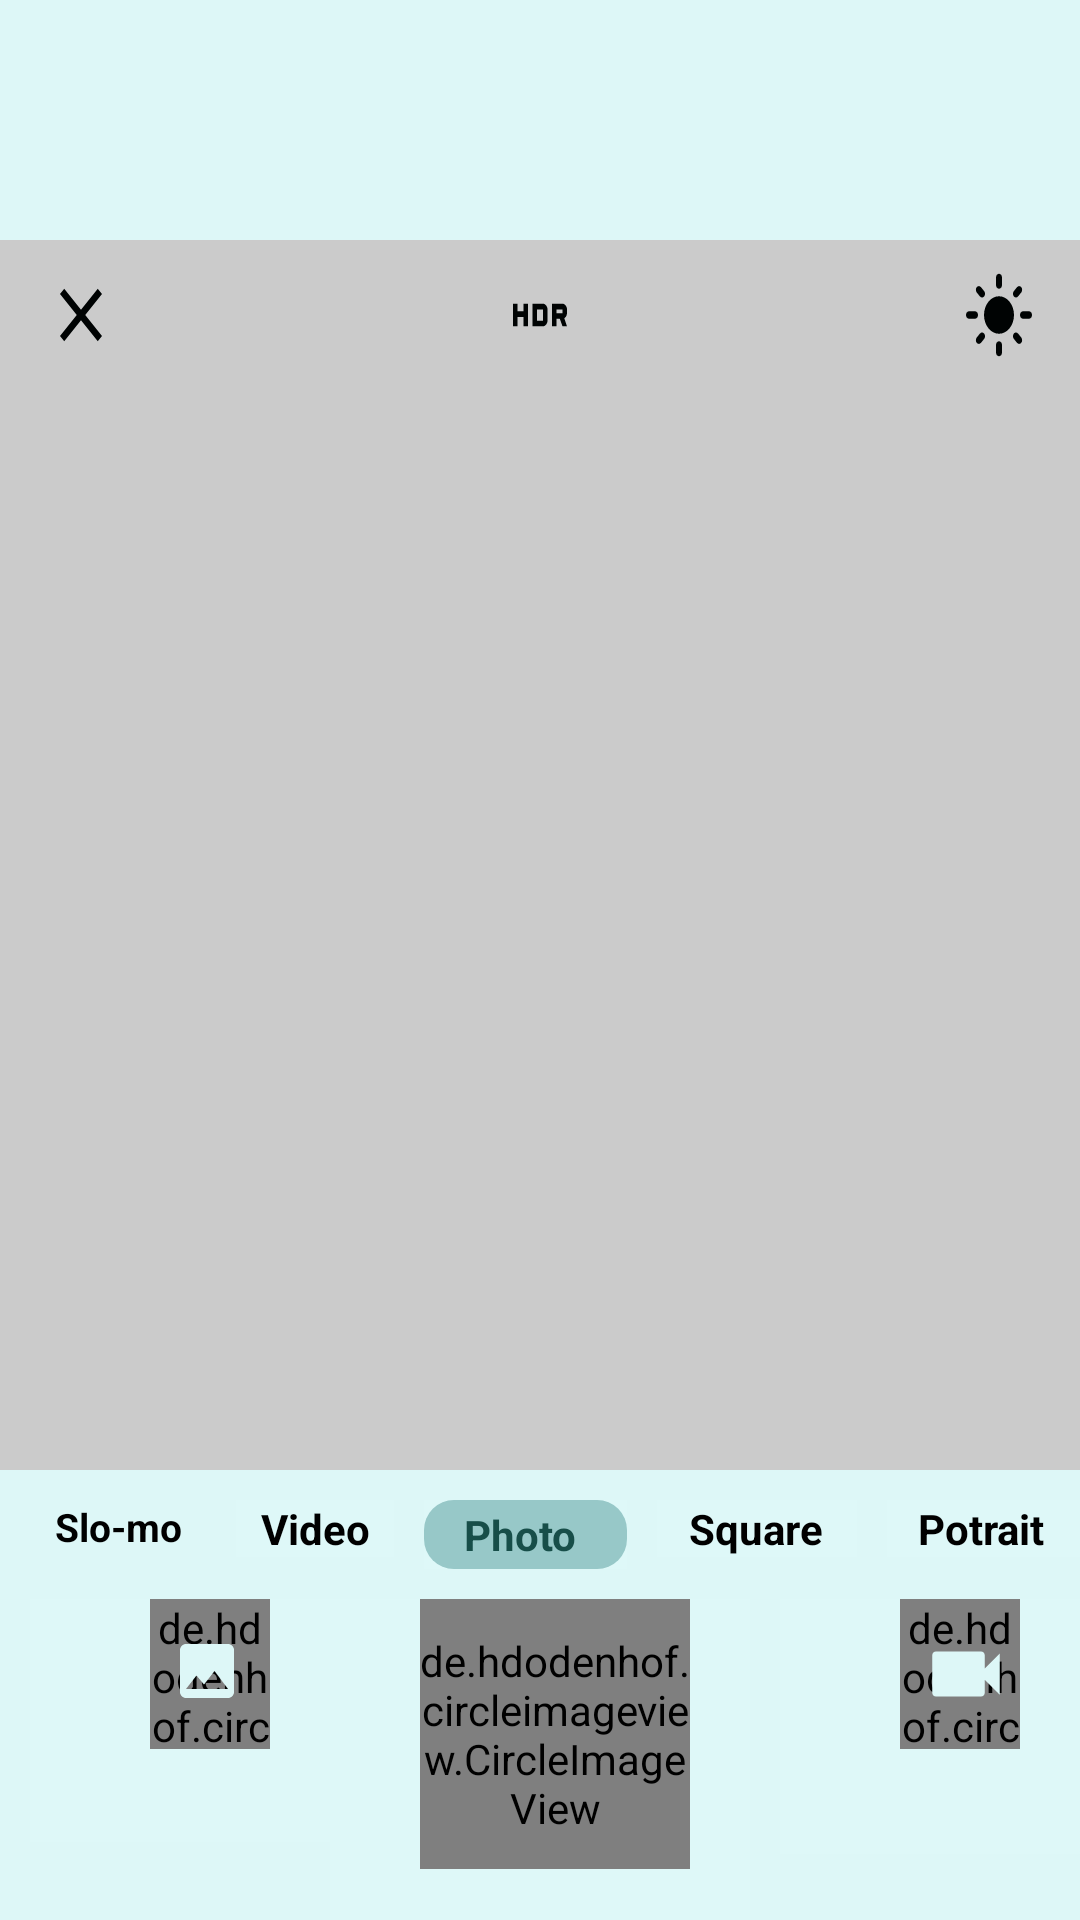

Screen size 1080 x 1920. Icon name, then its box in pixels as box=[x1, y1, x2, y2]:
brightness: box=[966, 273, 1032, 357]
close: box=[60, 289, 102, 341]
gallery: box=[171, 1635, 243, 1698]
video lightgreen: box=[928, 1639, 1011, 1716]
